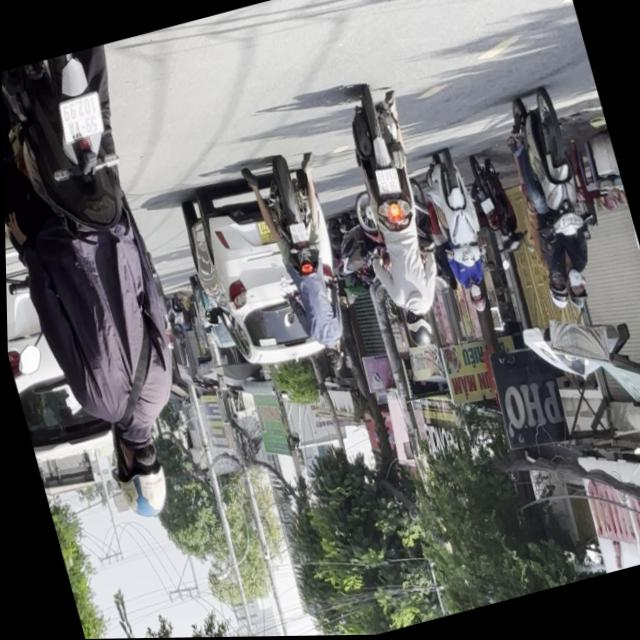helmet: (99, 420, 175, 523), (401, 307, 435, 352), (561, 270, 590, 311), (543, 270, 571, 312), (465, 282, 486, 314)
licenseplate: (1, 40, 229, 541), (326, 80, 462, 359), (243, 148, 368, 385), (492, 84, 613, 320), (415, 146, 500, 319)
motorcyclist: (322, 342, 344, 373)
nohelmet: (54, 91, 106, 144), (371, 166, 400, 197), (286, 222, 307, 244)
